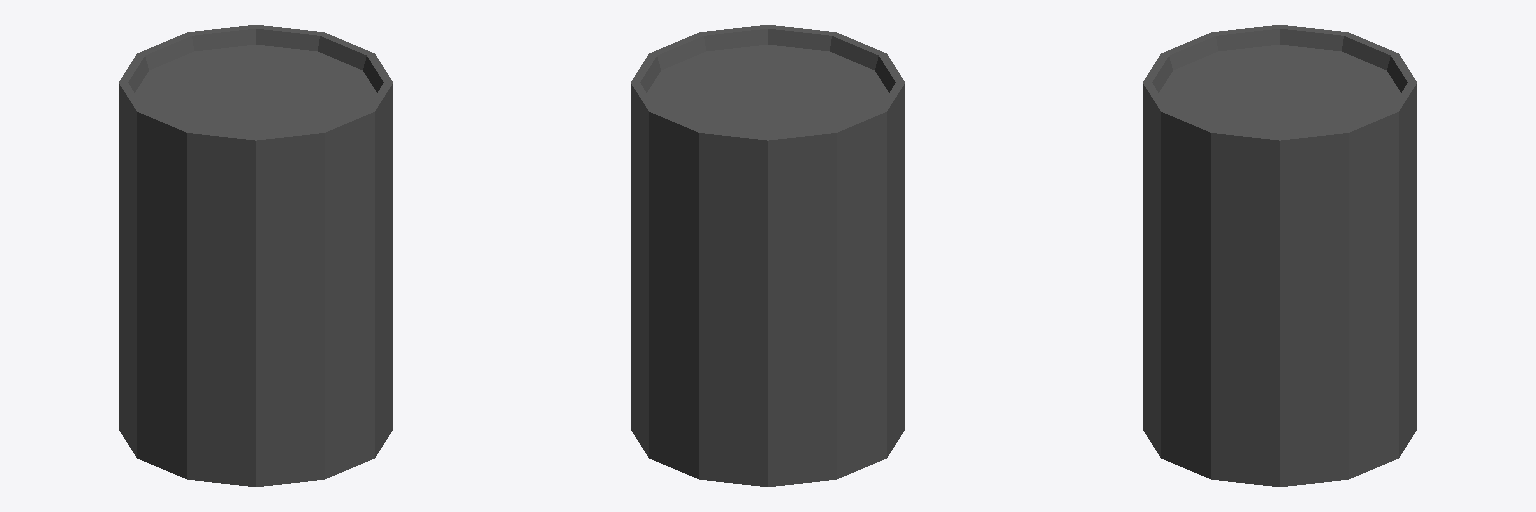
File: barrel02.obj
The picture shows the model from 3 angles: view 1: azimuth 30°, elevation 25°; view 2: azimuth 150°, elevation 25°; view 3: azimuth 270°, elevation 25°; orthographic projection.
Visible parts, largest first — view 1: Mesh; view 2: Mesh; view 3: Mesh.
Boxes of the visible parts, x1,y1,x2,y2 form: Mesh: [119, 25, 392, 486]; Mesh: [631, 25, 904, 486]; Mesh: [1143, 25, 1416, 486].
Size of the model in its own units: 0.863 by 1.2 by 0.863.